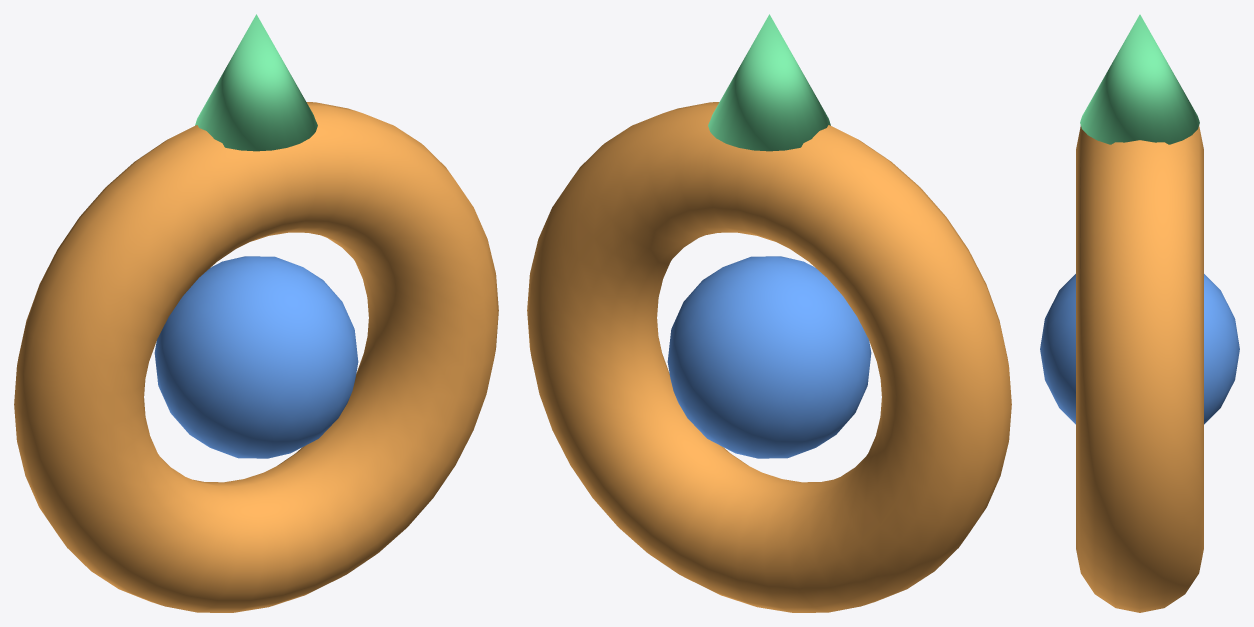
The model's file is rings.glb.
3 renders of one model, left to right at view 1: azimuth 30°, elevation 25°; view 2: azimuth 150°, elevation 25°; view 3: azimuth 270°, elevation 25°, orthographic. The views are drawn at different scales.
Visible parts, largest first — view 1: Torus, Icosphere, Cone; view 2: Torus, Icosphere, Cone; view 3: Torus, Cone, Icosphere.
Boxes of the visible parts, x1,y1,x2,y2 form: Torus: (14, 102, 498, 612); Icosphere: (154, 256, 358, 458); Cone: (195, 14, 317, 151); Torus: (527, 102, 1011, 612); Icosphere: (667, 256, 871, 458); Cone: (708, 14, 830, 151); Torus: (1076, 125, 1203, 612); Cone: (1080, 14, 1199, 144); Icosphere: (1040, 274, 1239, 424).
Size of the model in its own units: 2.64 by 3.17 by 1.
